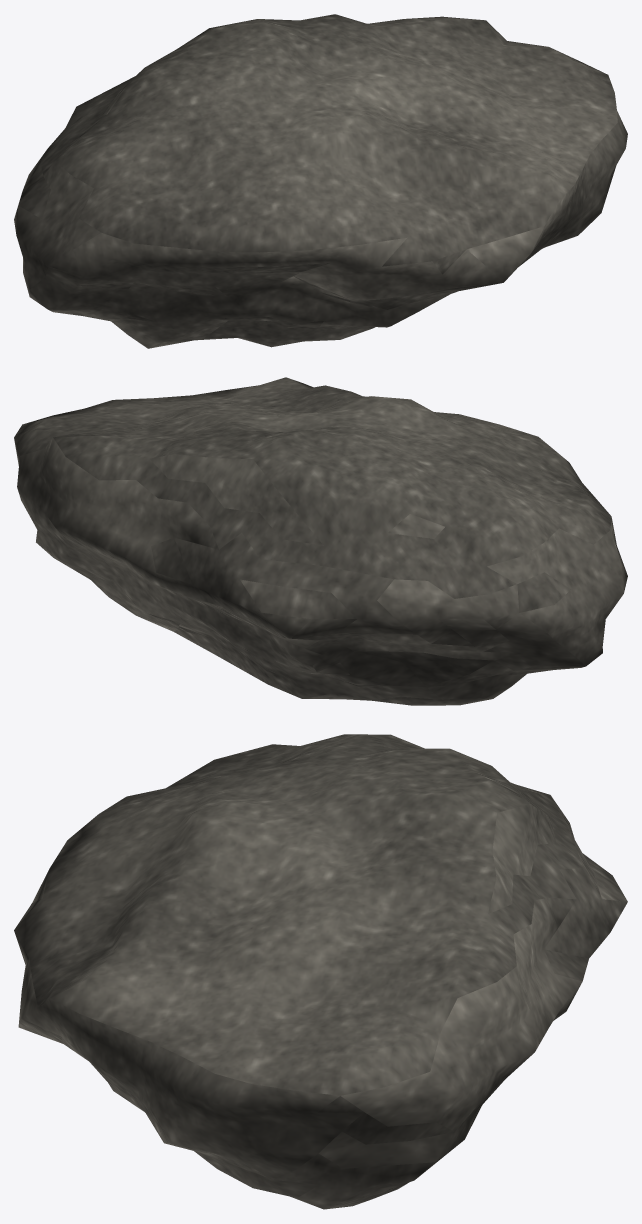
File: BoulderLow.glb
3 renders of one model, top to bottom at view 1: azimuth 30°, elevation 25°; view 2: azimuth 150°, elevation 25°; view 3: azimuth 270°, elevation 25°, orthographic. The views are drawn at different scales.
Visible parts, largest first — view 1: BoulderLowVisual; view 2: BoulderLowVisual; view 3: BoulderLowVisual.
Boxes of the visible parts, box(x1,y1,x2,y2) form: BoulderLowVisual: box(14, 14, 627, 348); BoulderLowVisual: box(14, 377, 627, 705); BoulderLowVisual: box(14, 734, 627, 1209).
Size of what is drawn, in the model's own units: 1.94 by 0.8081 by 1.41.
1 material, 1 textured.
